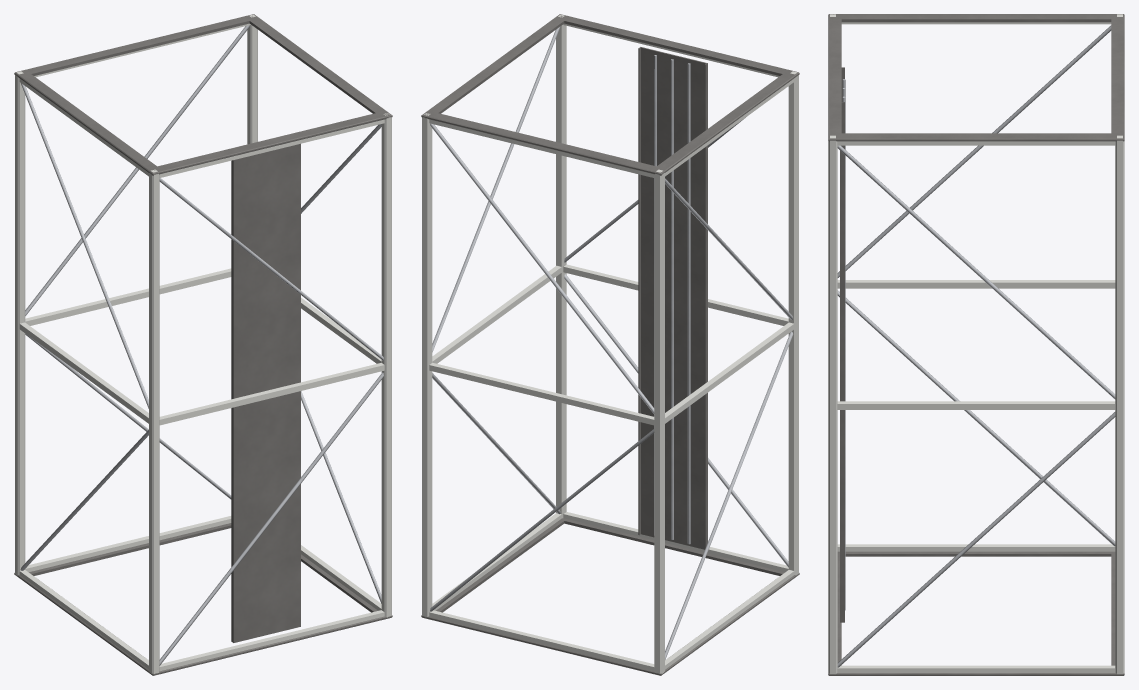
The model's file is ax_station_18_truss_l.glb.
The picture shows the model from 3 angles, left to right: view 1: azimuth 30°, elevation 25°; view 2: azimuth 150°, elevation 25°; view 3: azimuth 270°, elevation 25°; orthographic projection. The views are drawn at different scales.
Parts seen in each view (by area): view 1: utility_tray, longerons, frames, end_frames, diagonals; view 2: utility_tray, longerons, frames, end_frames, diagonals, tray_lines; view 3: end_frames, frames, longerons, diagonals, utility_tray, tray_lines.
Part boxes in pixels (x1,y1,x2,y2): utility_tray: [231, 143, 300, 642]; longerons: [15, 14, 391, 673]; frames: [19, 23, 384, 671]; end_frames: [14, 14, 392, 675]; diagonals: [20, 25, 383, 665]; utility_tray: [638, 47, 707, 549]; longerons: [422, 14, 798, 673]; frames: [429, 23, 794, 671]; end_frames: [421, 14, 799, 675]; diagonals: [430, 26, 793, 659]; tray_lines: [654, 55, 690, 544]; end_frames: [828, 14, 1124, 675]; frames: [837, 22, 1115, 672]; longerons: [828, 14, 1124, 674]; diagonals: [837, 25, 1115, 667]; utility_tray: [840, 67, 844, 622]; tray_lines: [842, 79, 845, 610].
Size of the model in its own units: 3.75 by 7.5 by 3.75.
Materials: 3 (2 with a texture image).
